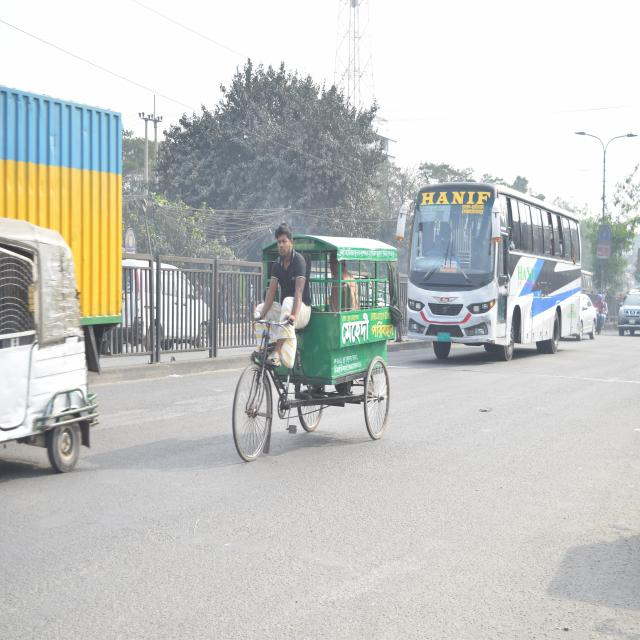bus: (395, 172, 582, 364)
car: (613, 285, 640, 340), (578, 289, 599, 339)
pickup-van: (0, 92, 127, 358)
